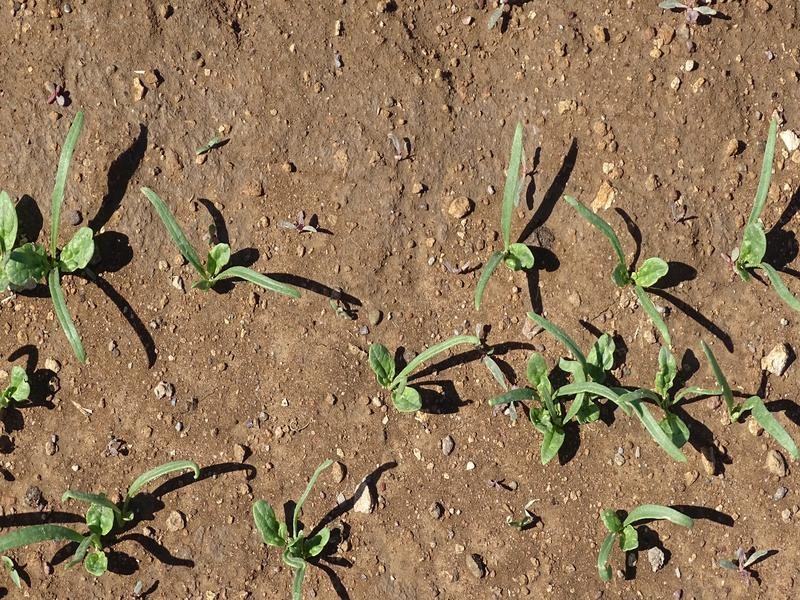Espinaca: (489, 328, 704, 462), (5, 447, 201, 577), (1, 106, 100, 347), (140, 183, 296, 303), (558, 186, 674, 339), (728, 111, 798, 304), (250, 454, 348, 587), (367, 320, 475, 422), (472, 122, 533, 299), (705, 349, 800, 457), (585, 497, 686, 581)
